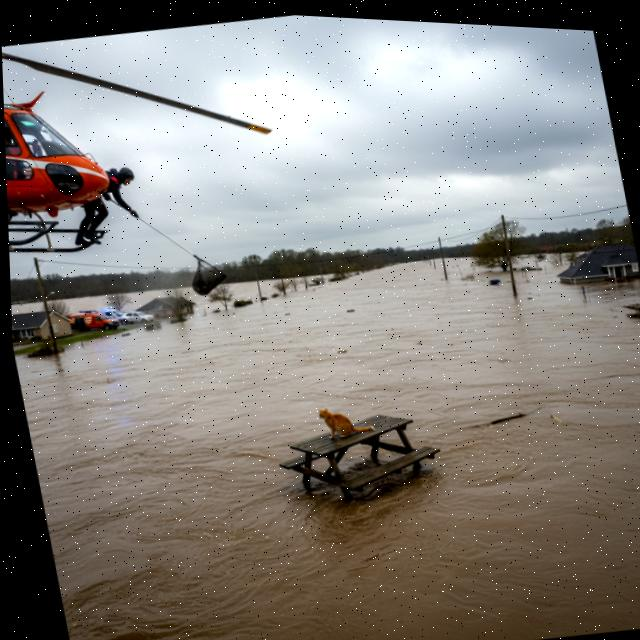cat: (312, 390, 385, 451)
rescuer: (51, 142, 158, 264)
